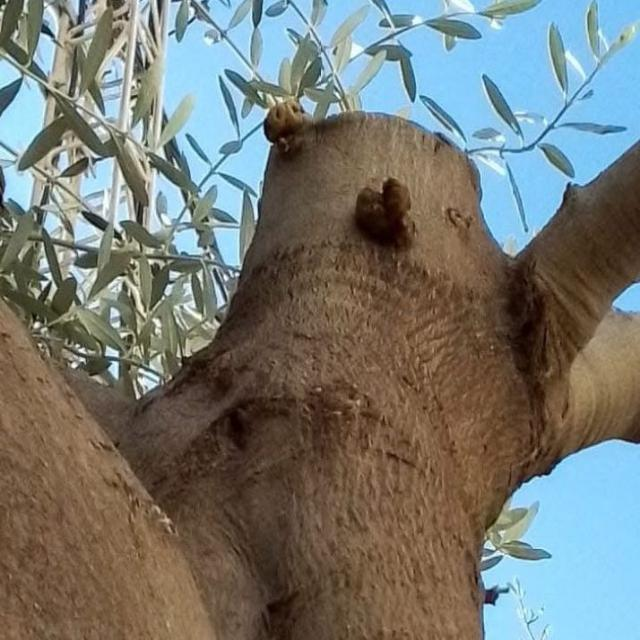Tuberculosis: (355, 177, 417, 247), (262, 96, 316, 155)
